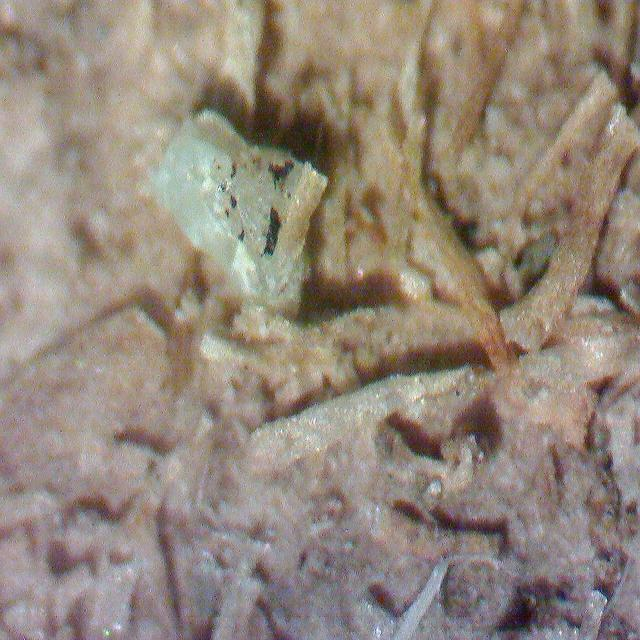microplastic: (117, 99, 373, 336)
